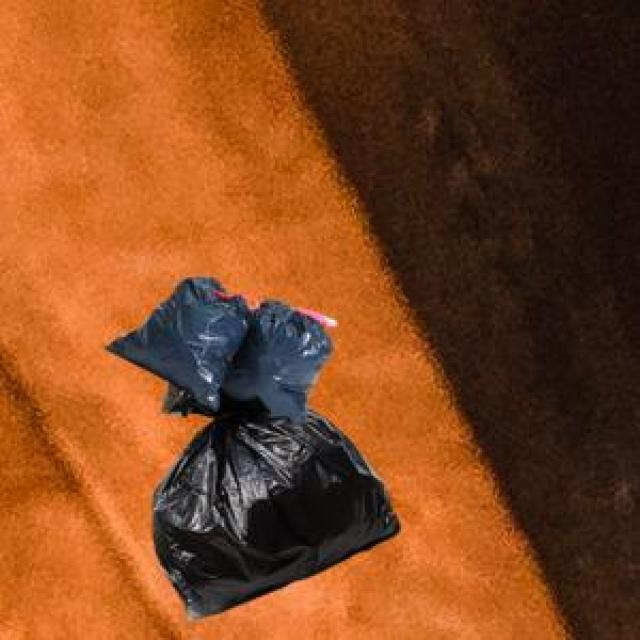garbage_bag: (103, 271, 404, 619)
